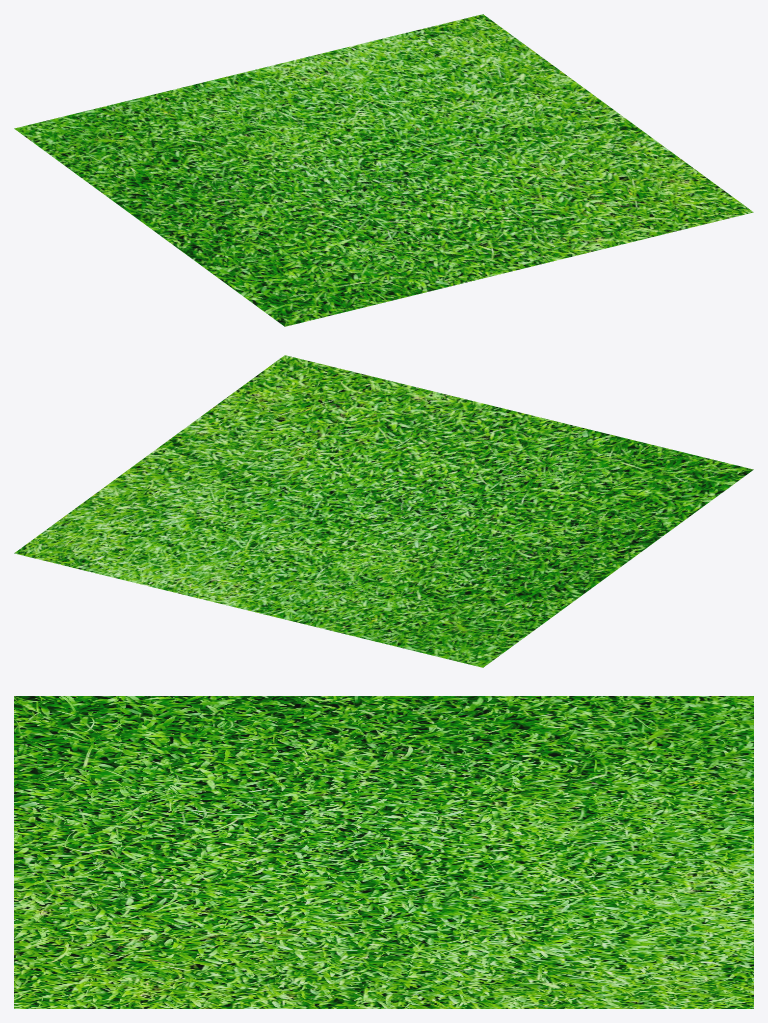
File: grasscarpet.obj
3 renders of one model, top to bottom at view 1: azimuth 30°, elevation 25°; view 2: azimuth 150°, elevation 25°; view 3: azimuth 270°, elevation 25°, orthographic. The views are drawn at different scales.
Visible parts, largest first — view 1: pPlane1 group1; view 2: pPlane1 group1; view 3: pPlane1 group1.
Boxes of the visible parts, bbox=[...] form: pPlane1 group1: bbox=[14, 14, 753, 326]; pPlane1 group1: bbox=[14, 355, 753, 667]; pPlane1 group1: bbox=[14, 696, 753, 1008].
Size of the model in its own units: 7.14 by 0 by 7.14.
Materials: 1 (1 with a texture image).
